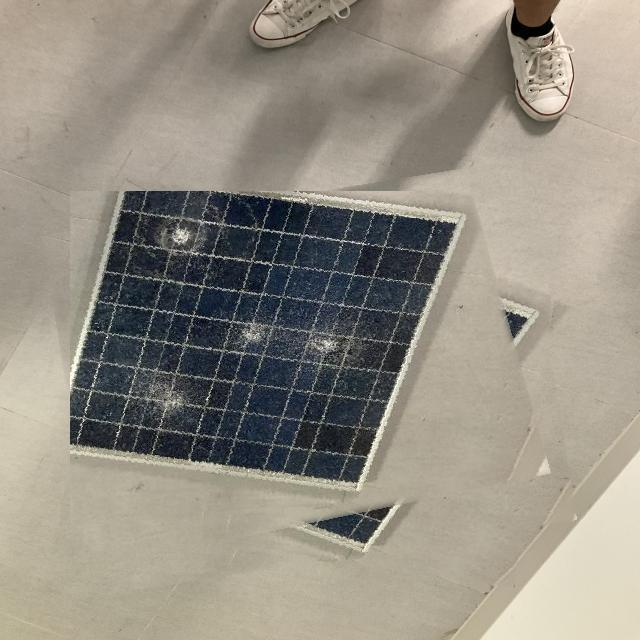Photovoltaic-Panel: (70, 191, 550, 573)
